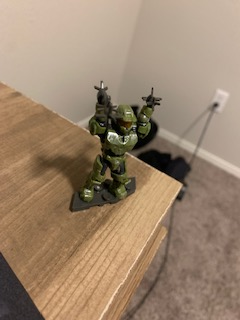chief: (77, 95, 157, 202)
spartan: (75, 93, 155, 200)
up: (87, 97, 156, 156)
